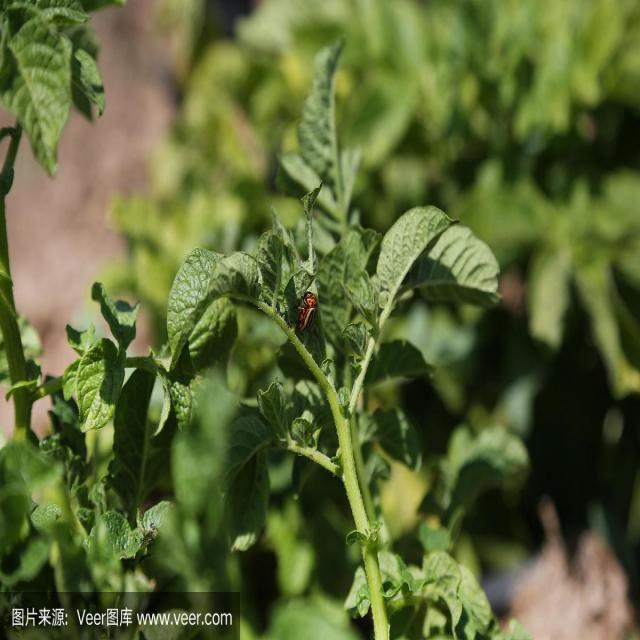ShuCaiHuaBanChong-Grown-: (290, 286, 319, 334)
